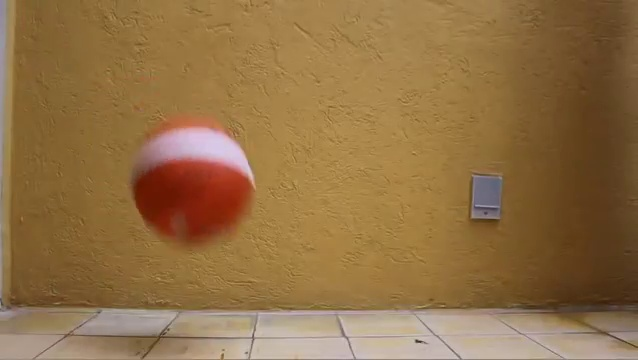ball: (129, 116, 257, 247)
